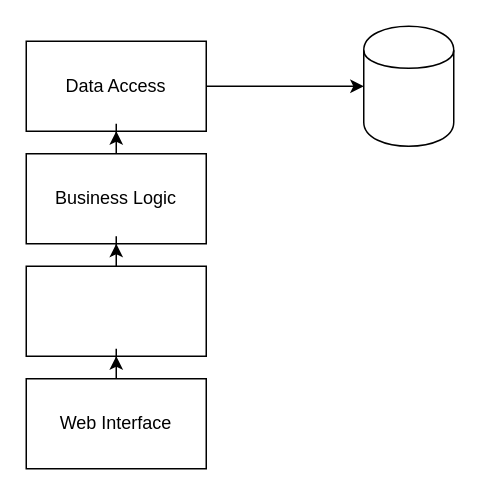
Image size: 480x495. Some labels were removed from this diagram. The shapes that lost their labels are listed below. From the top down, each one's centre as x and y in pixels, then its label:
At point 408,85: "MongoDB".
At point 115,310: "Authorization".
